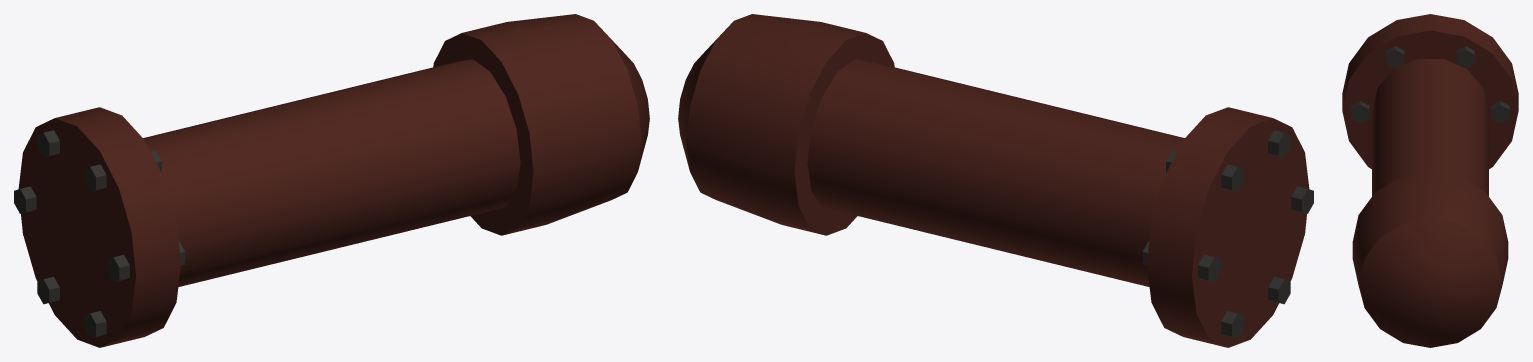
The model's file is PipeCap.fbx.
3 renders of one model, left to right at view 1: azimuth 30°, elevation 25°; view 2: azimuth 150°, elevation 25°; view 3: azimuth 270°, elevation 25°, orthographic. The views are drawn at different scales.
Parts seen in each view (by area): view 1: PipeCap_Pipe, PipeCap_Bolts; view 2: PipeCap_Pipe, PipeCap_Bolts; view 3: PipeCap_Pipe, PipeCap_Bolts.
Part boxes in pixels (x1,y1,x2,y2): PipeCap_Pipe: (18, 14, 649, 347); PipeCap_Bolts: (14, 130, 185, 338); PipeCap_Pipe: (678, 14, 1309, 347); PipeCap_Bolts: (1142, 130, 1313, 338); PipeCap_Pipe: (1342, 14, 1518, 347); PipeCap_Bolts: (1351, 46, 1509, 123).
Bounding box in the file's own units: 0.377 × 0.136 × 0.136.
